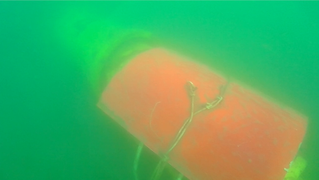4: (72, 16, 94, 37)
leak: (97, 47, 308, 180)
pipe: (54, 8, 160, 99), (282, 154, 311, 180)
